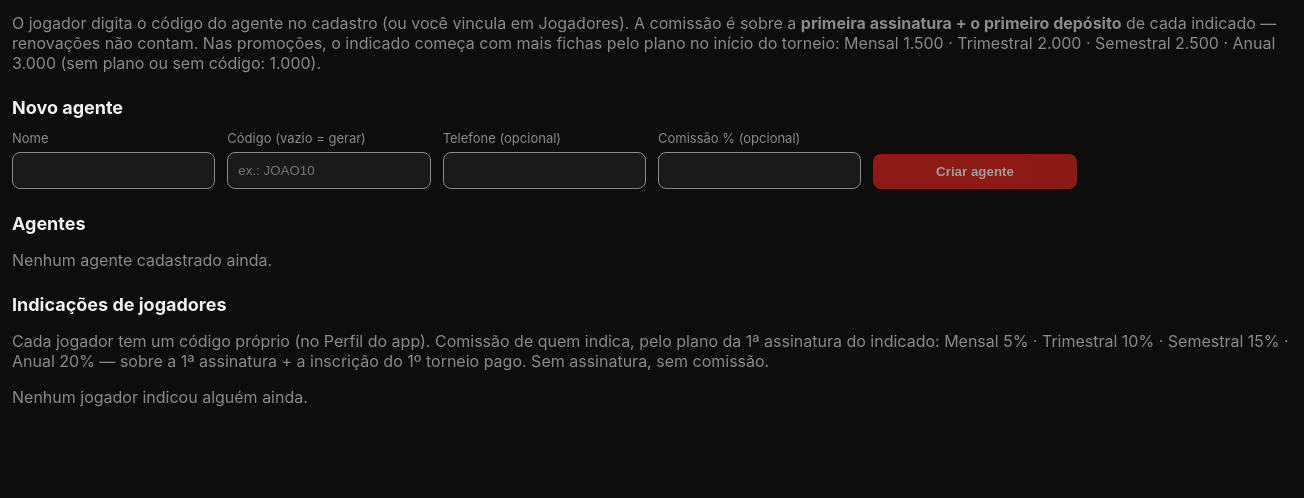
Test: Agents tab › creates an agent with the typed code and percentage
Expected: the text "Nenhum agente cadastrado ainda." is shown, x1=12 y1=250 x2=272 y2=270
Type "João Silva" into the field labelled "Nome" at (114, 170), box x1=12 y1=152 x2=215 y2=189
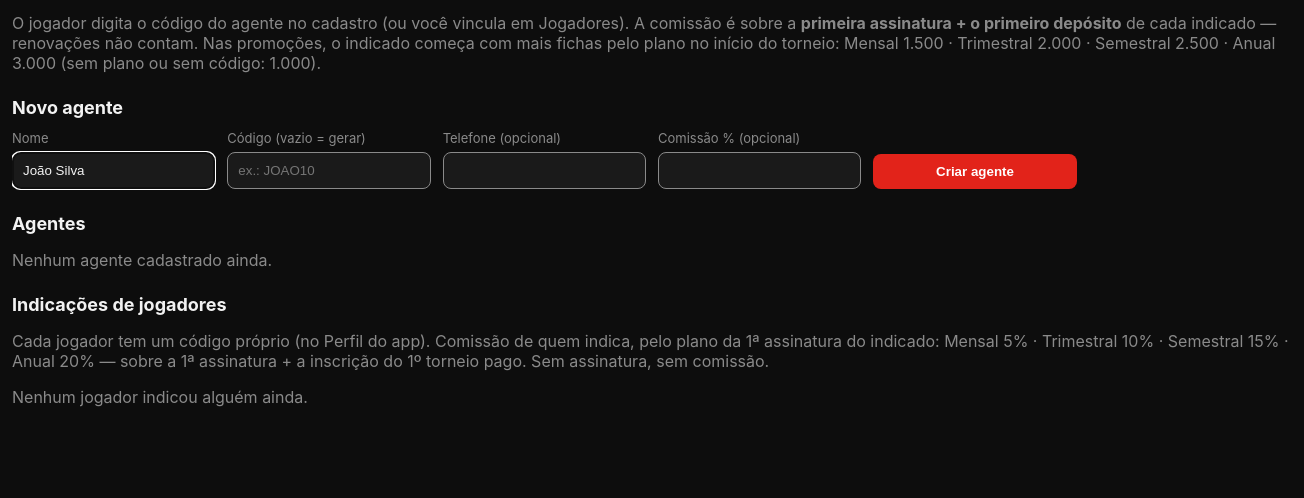
Type "joao10" into the field labelled "Código (vazio = gerar)" at (329, 170), box x1=227 y1=152 x2=431 y2=189
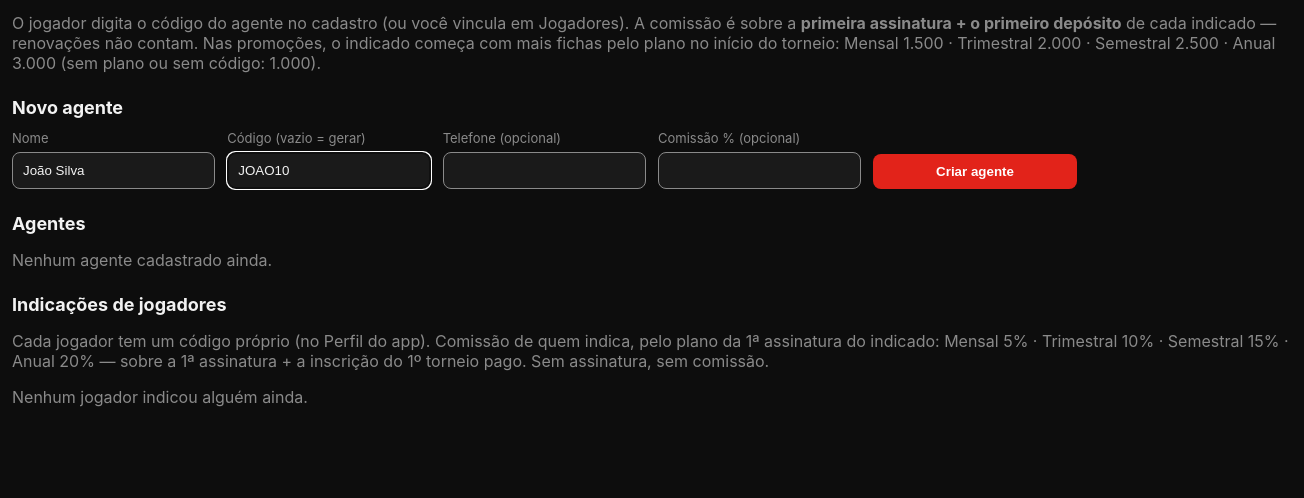
Type "10" into the number field labelled "Comissão % (opcional)" at (760, 170), box x1=658 y1=152 x2=861 y2=189
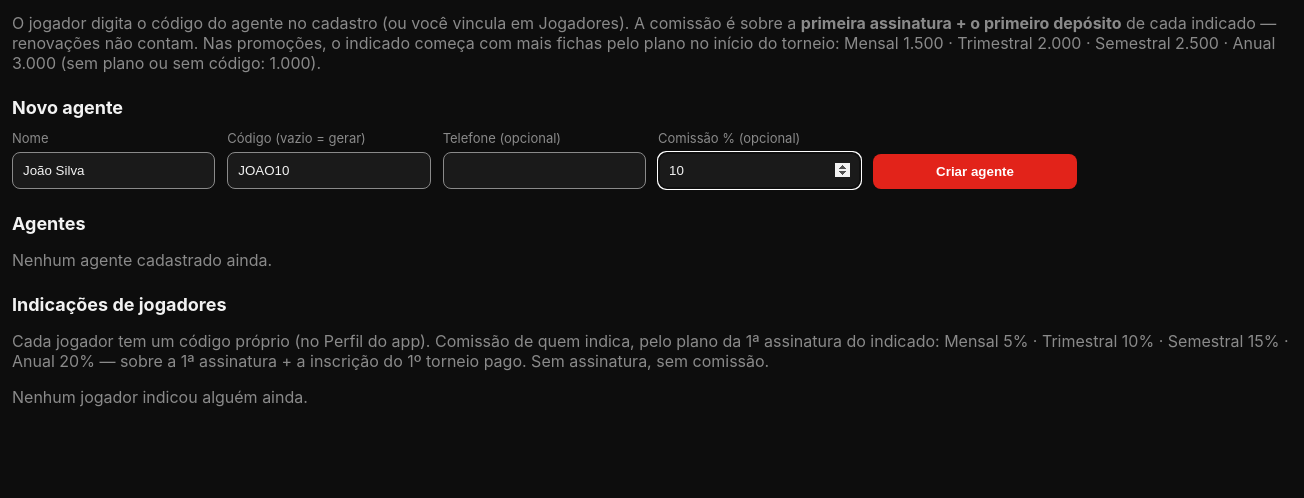
Click the button "Criar agente" at (975, 172), box x1=873 y1=154 x2=1077 y2=189
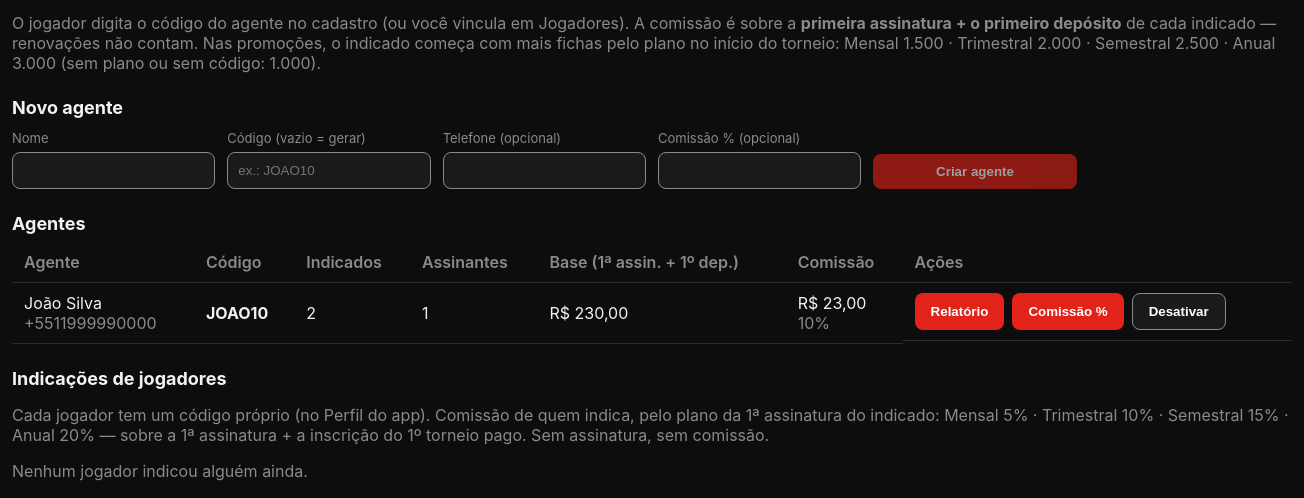
Expected: the text "JOAO10" is shown, x1=206 y1=303 x2=268 y2=323
